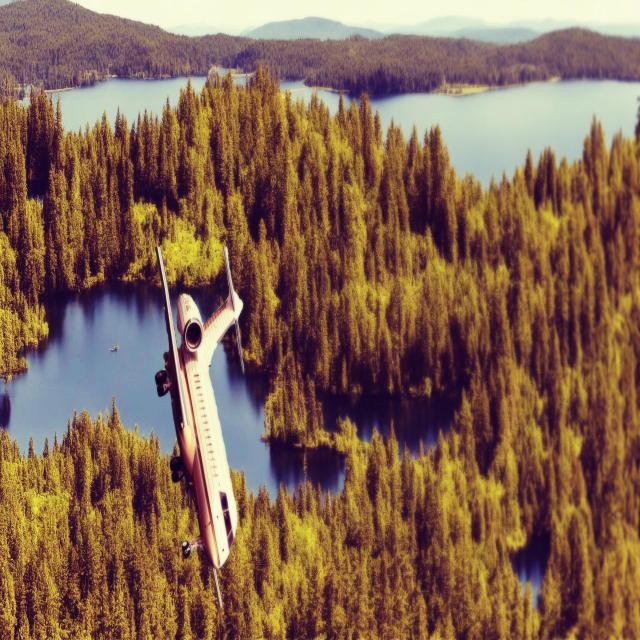airplane: (154, 243, 245, 609)
